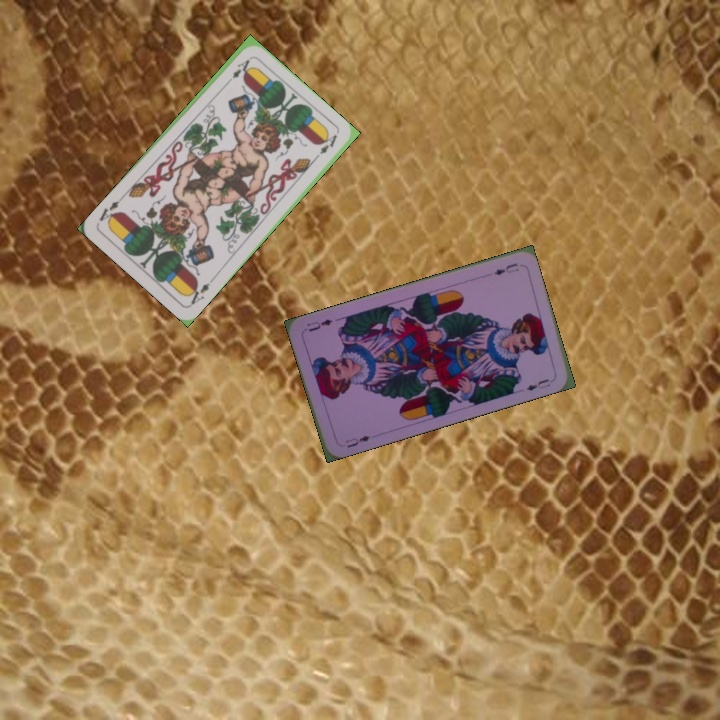EA: (221, 55, 252, 87), (184, 279, 212, 308)
EU: (490, 259, 522, 278), (341, 431, 372, 450)
